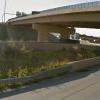Bridge: (6, 7, 99, 46)
